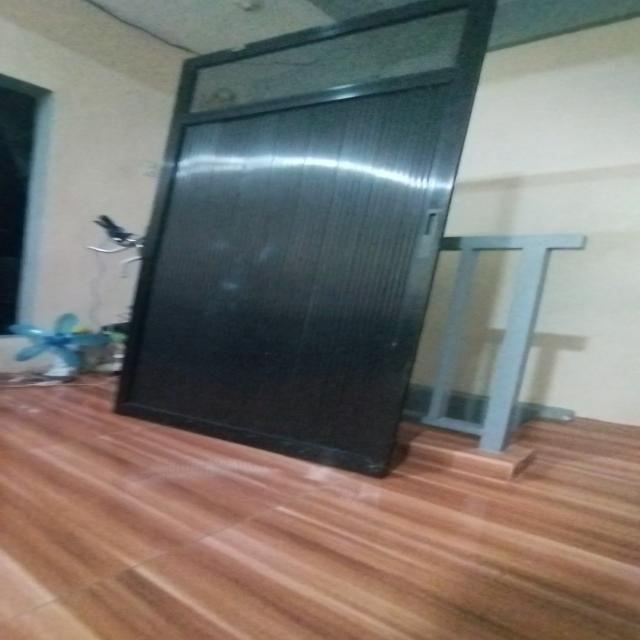door: (116, 0, 497, 474)
